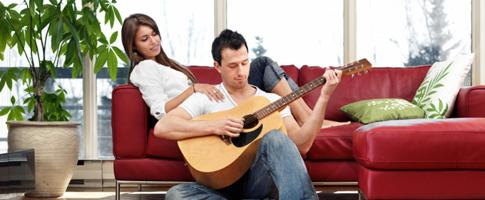person: (153, 30, 342, 200)
